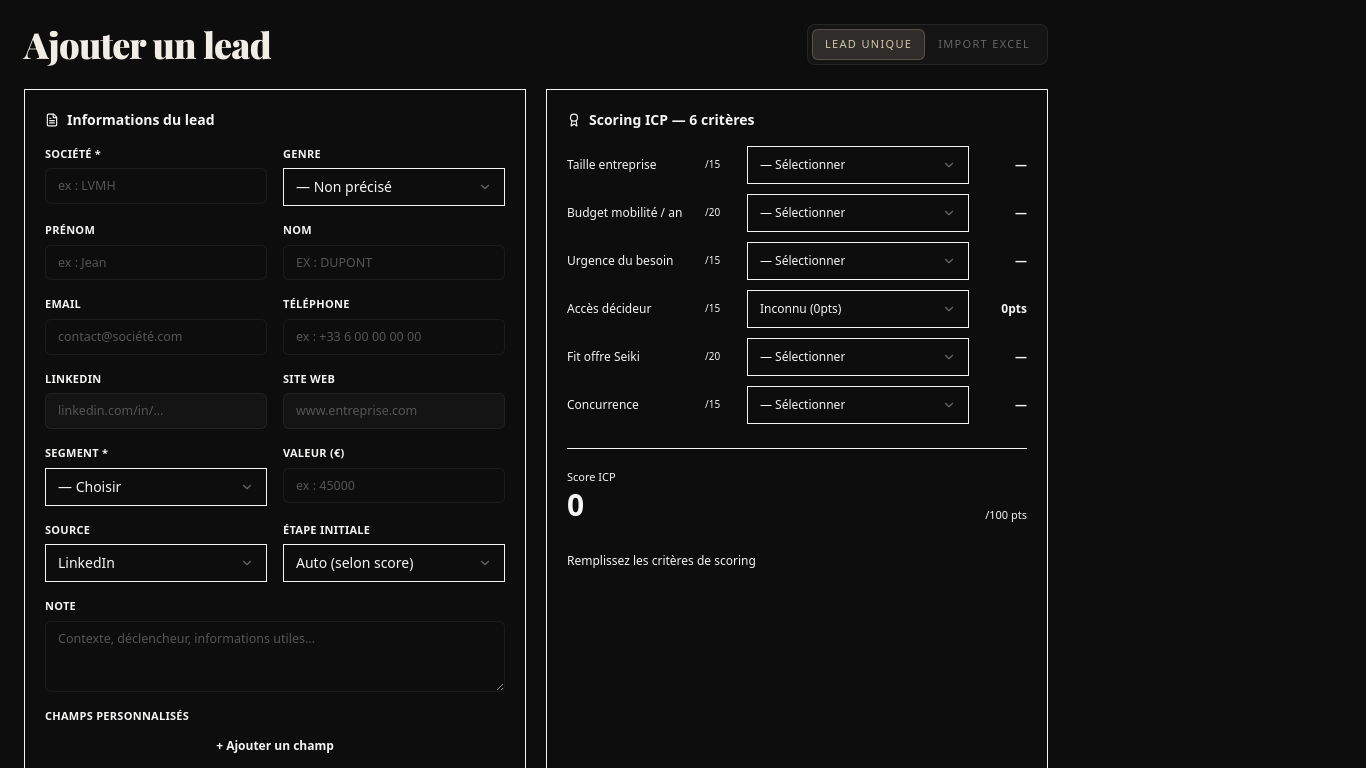
Test case: AddLead View › updates scores and recommendation when criteria dropdown changes
Expected: the text "0" is shown, [567,484,584,525]
# Find "Taille entreprise" criteria item
Click the button "— Sélectionner" in the row of "Taille entreprise".
click(858, 164)  # box [747,146,969,184]
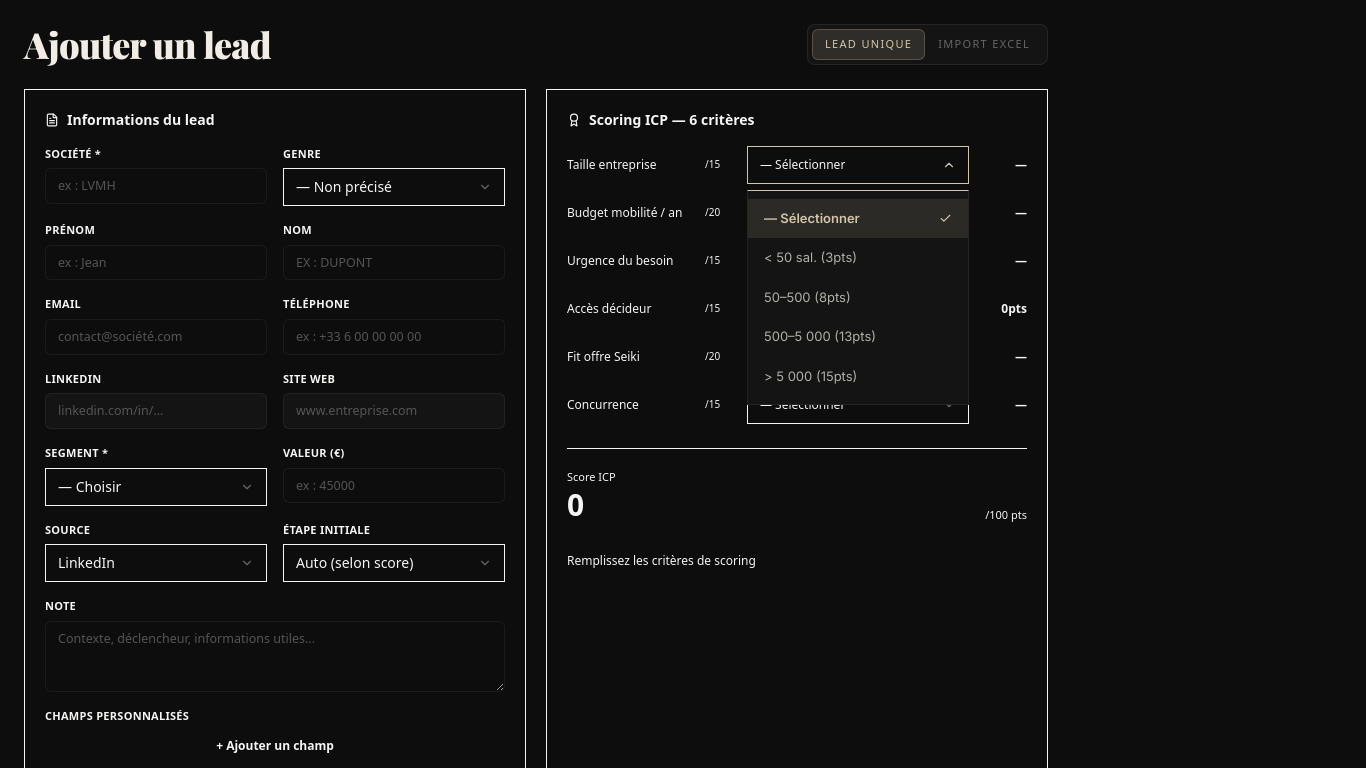
# Select option with 8 pts
Click the option "50–500 (8pts)".
click(807, 296)  # box [764,288,851,304]
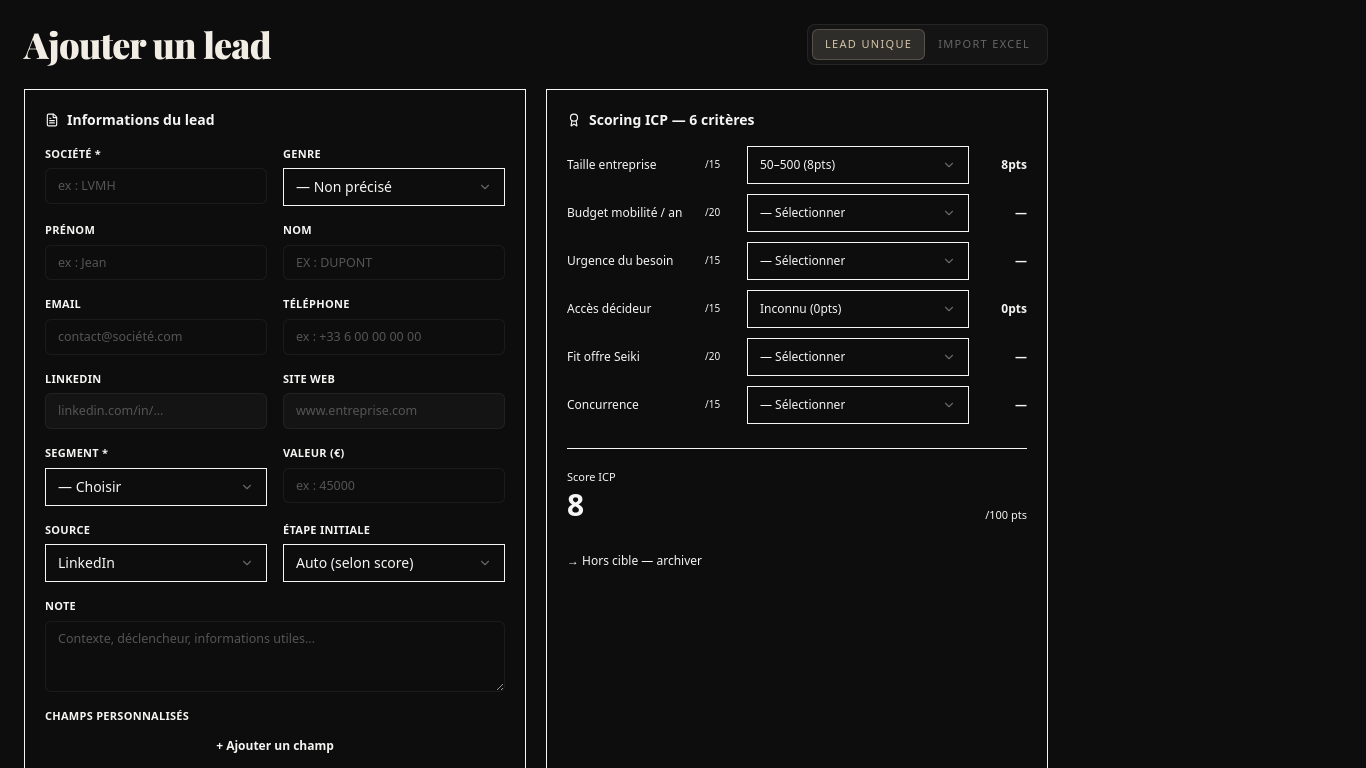
Result: the text "8pts" is shown at [1001,156,1027,172]
Result: the text "8" is shown at [567,484,584,525]
